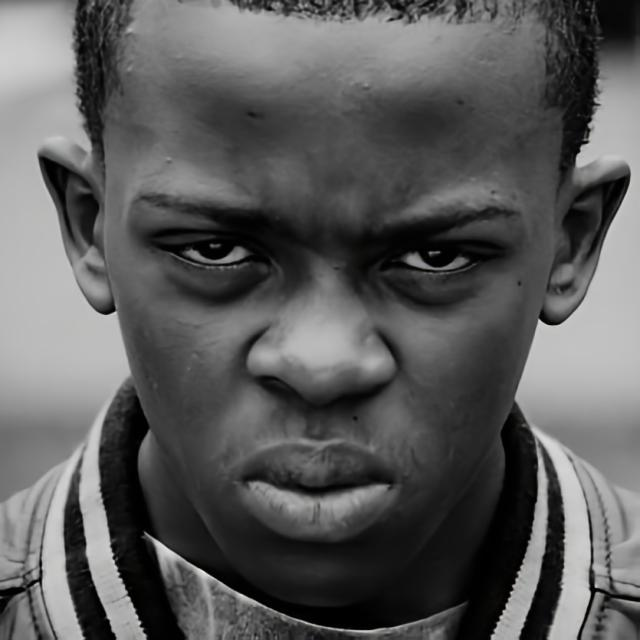disgust: (117, 74, 541, 625)
